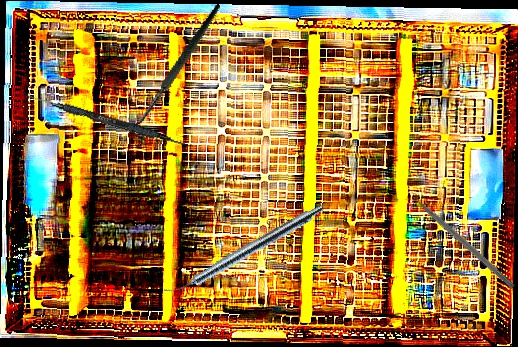Handpiece: (162, 198, 327, 304)
Hook Surgical: (96, 2, 260, 146), (405, 188, 517, 290)
Spatula Surgical: (21, 91, 192, 149)
